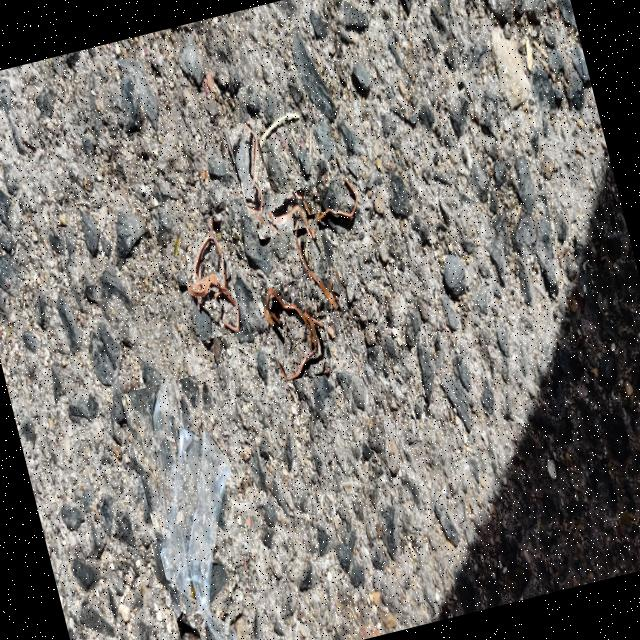Plastic film: (154, 383, 238, 640)
Scrap metal: (266, 287, 324, 381), (187, 236, 239, 331), (295, 218, 338, 310), (303, 177, 358, 222), (242, 121, 264, 213), (252, 201, 308, 227)
